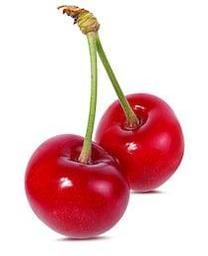cherry: (23, 134, 131, 239), (96, 93, 185, 192)
